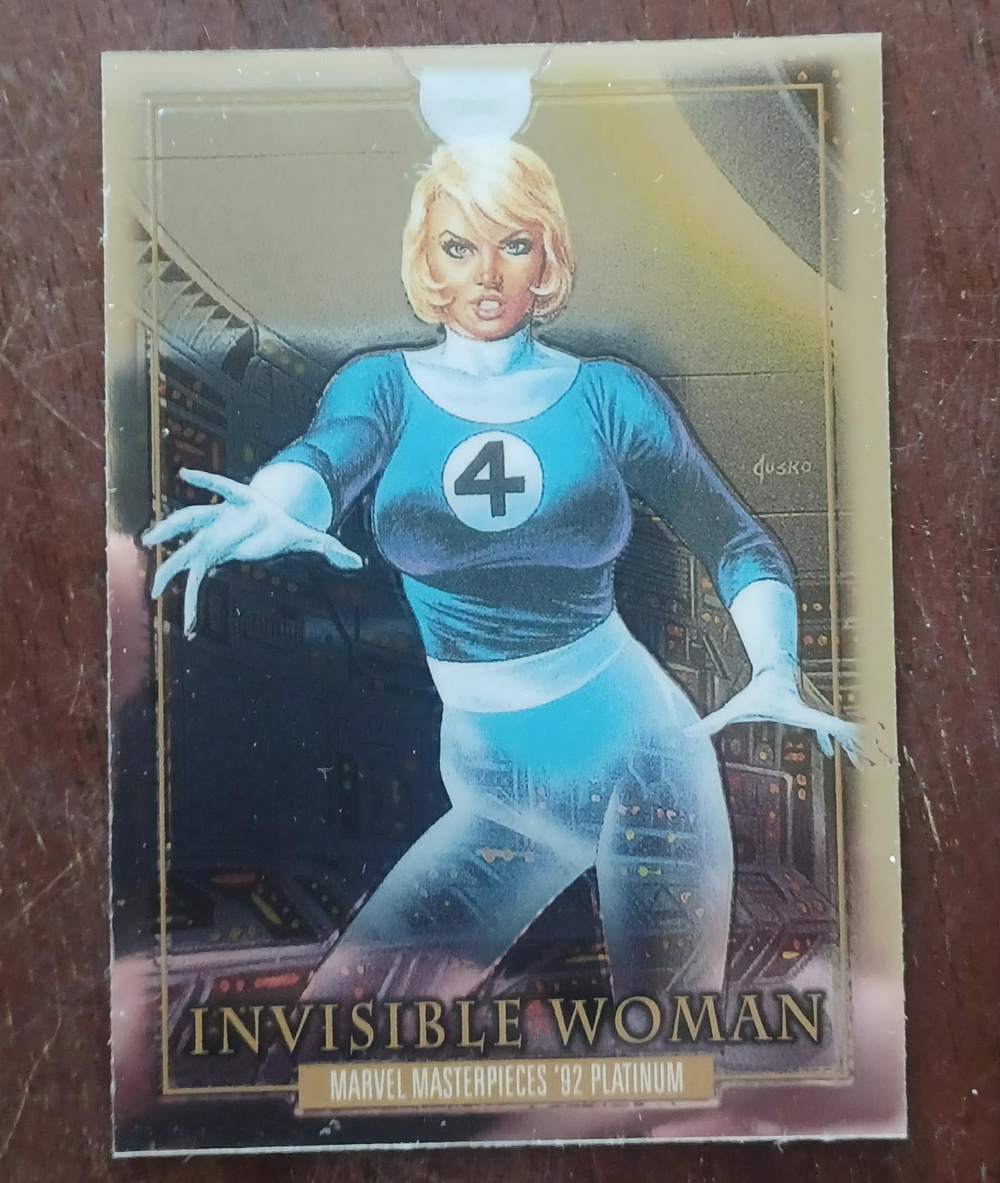comic: (88, 36, 906, 1155)
